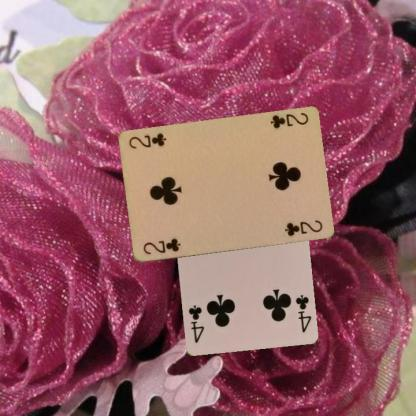2c: (140, 236, 182, 256), (268, 110, 310, 130)
4c: (292, 292, 312, 334)
